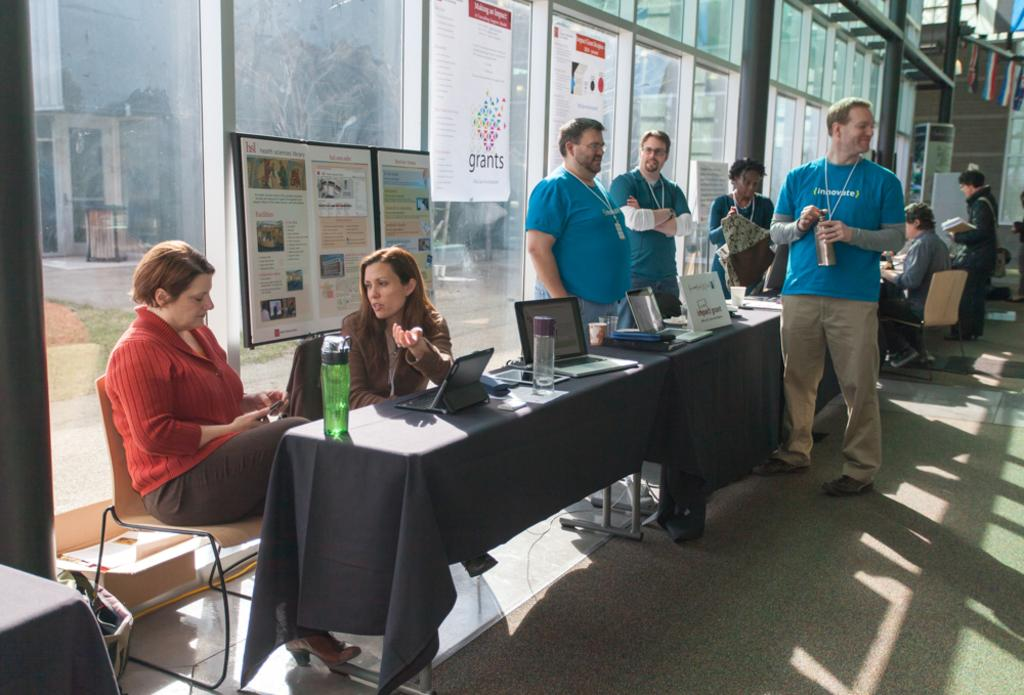Chair: (112, 368, 281, 588), (873, 268, 972, 384), (284, 338, 327, 427)
